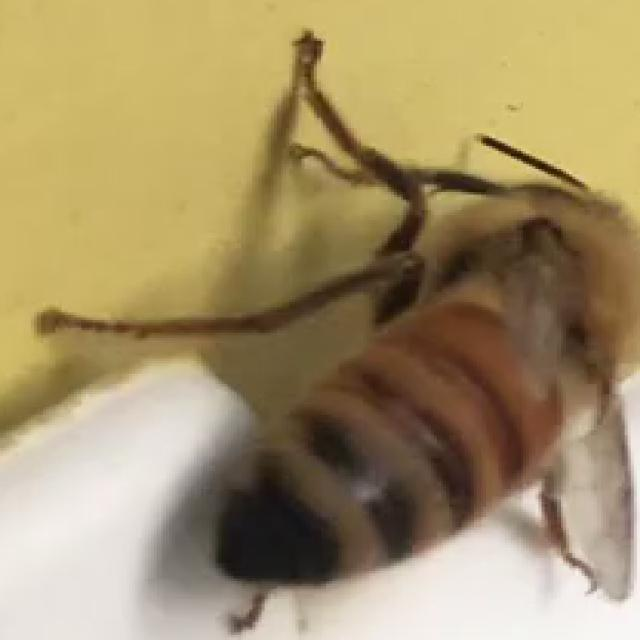honeybee: (169, 43, 640, 640)
